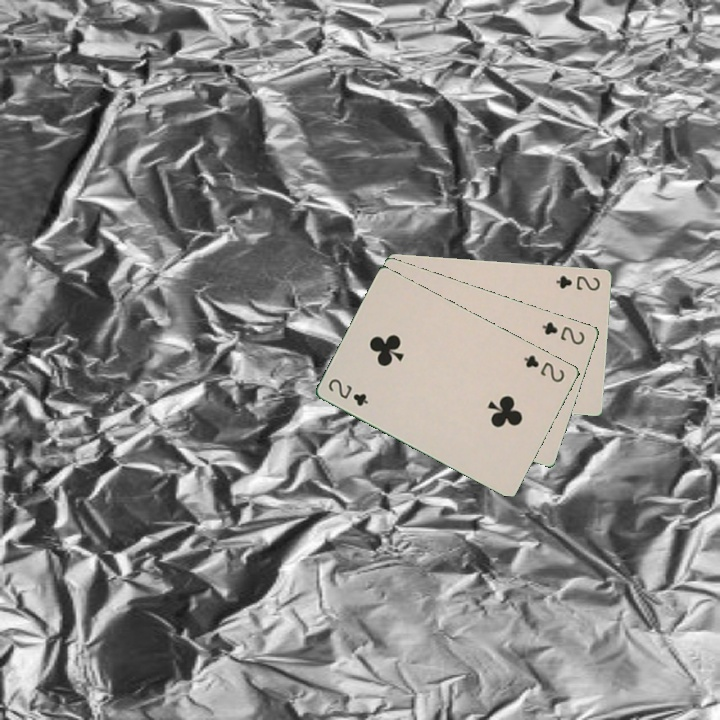2c: (324, 374, 371, 409), (520, 351, 567, 385), (538, 318, 587, 347), (552, 271, 603, 293)
